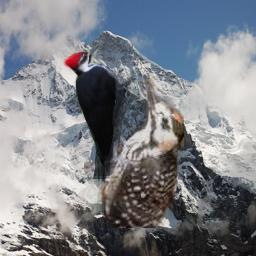Woodpecker: (84, 76, 184, 228), (61, 44, 137, 179)
